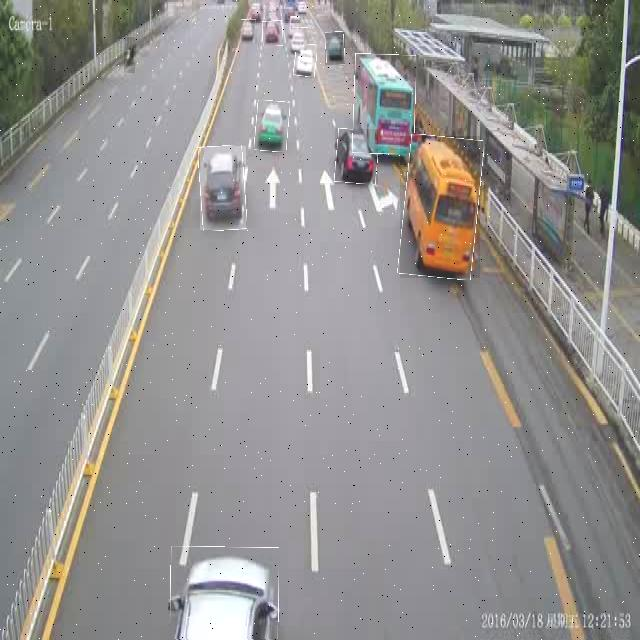Bus: (400, 136, 480, 278), (353, 54, 416, 153)
Car: (170, 546, 279, 640), (200, 146, 246, 230), (335, 129, 378, 184), (255, 100, 289, 152), (294, 44, 317, 76), (325, 32, 345, 65), (263, 21, 283, 46), (290, 27, 308, 52), (242, 19, 258, 44)
Motorcycle: (124, 37, 136, 73)
